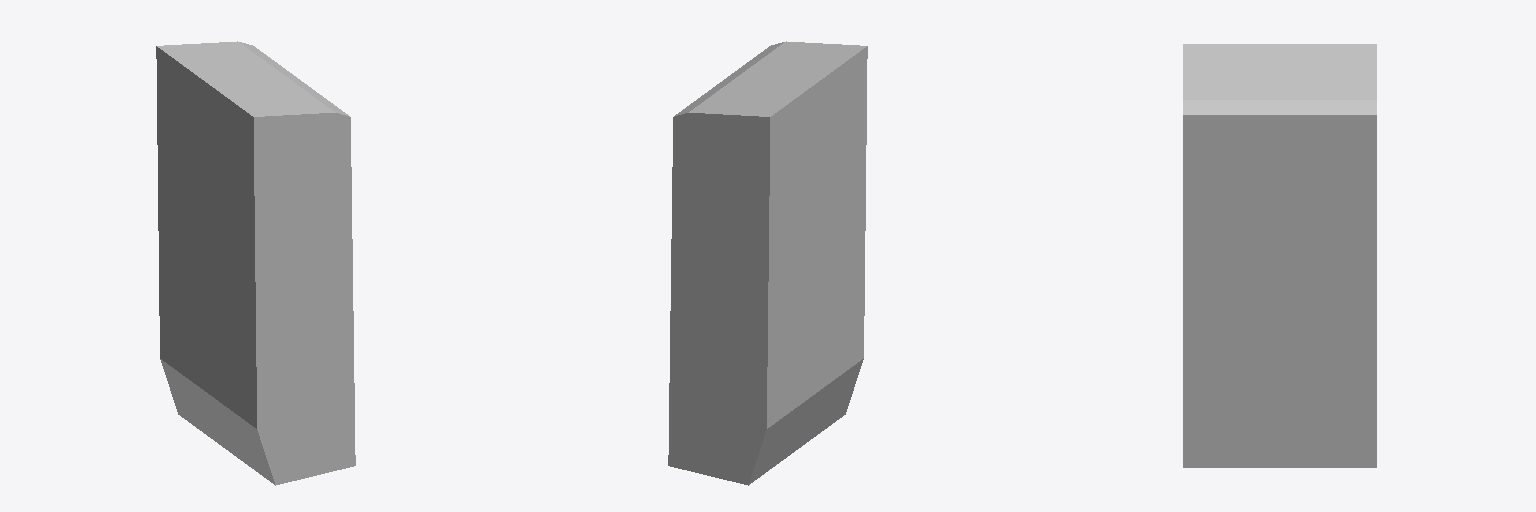
File: hole_collision_2.obj
3 views of the same model, side by side, from view 1: azimuth 30°, elevation 25°; view 2: azimuth 150°, elevation 25°; view 3: azimuth 270°, elevation 25° (orthographic).
Bounding box in the file's own units: 0.0121 × 0.0424 × 0.02.